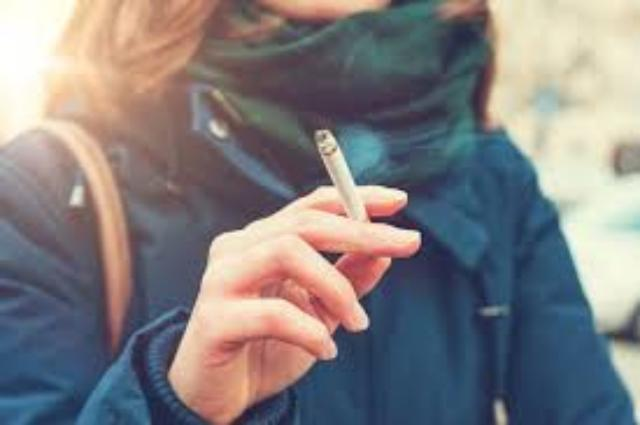Smoking: (316, 130, 378, 258)
